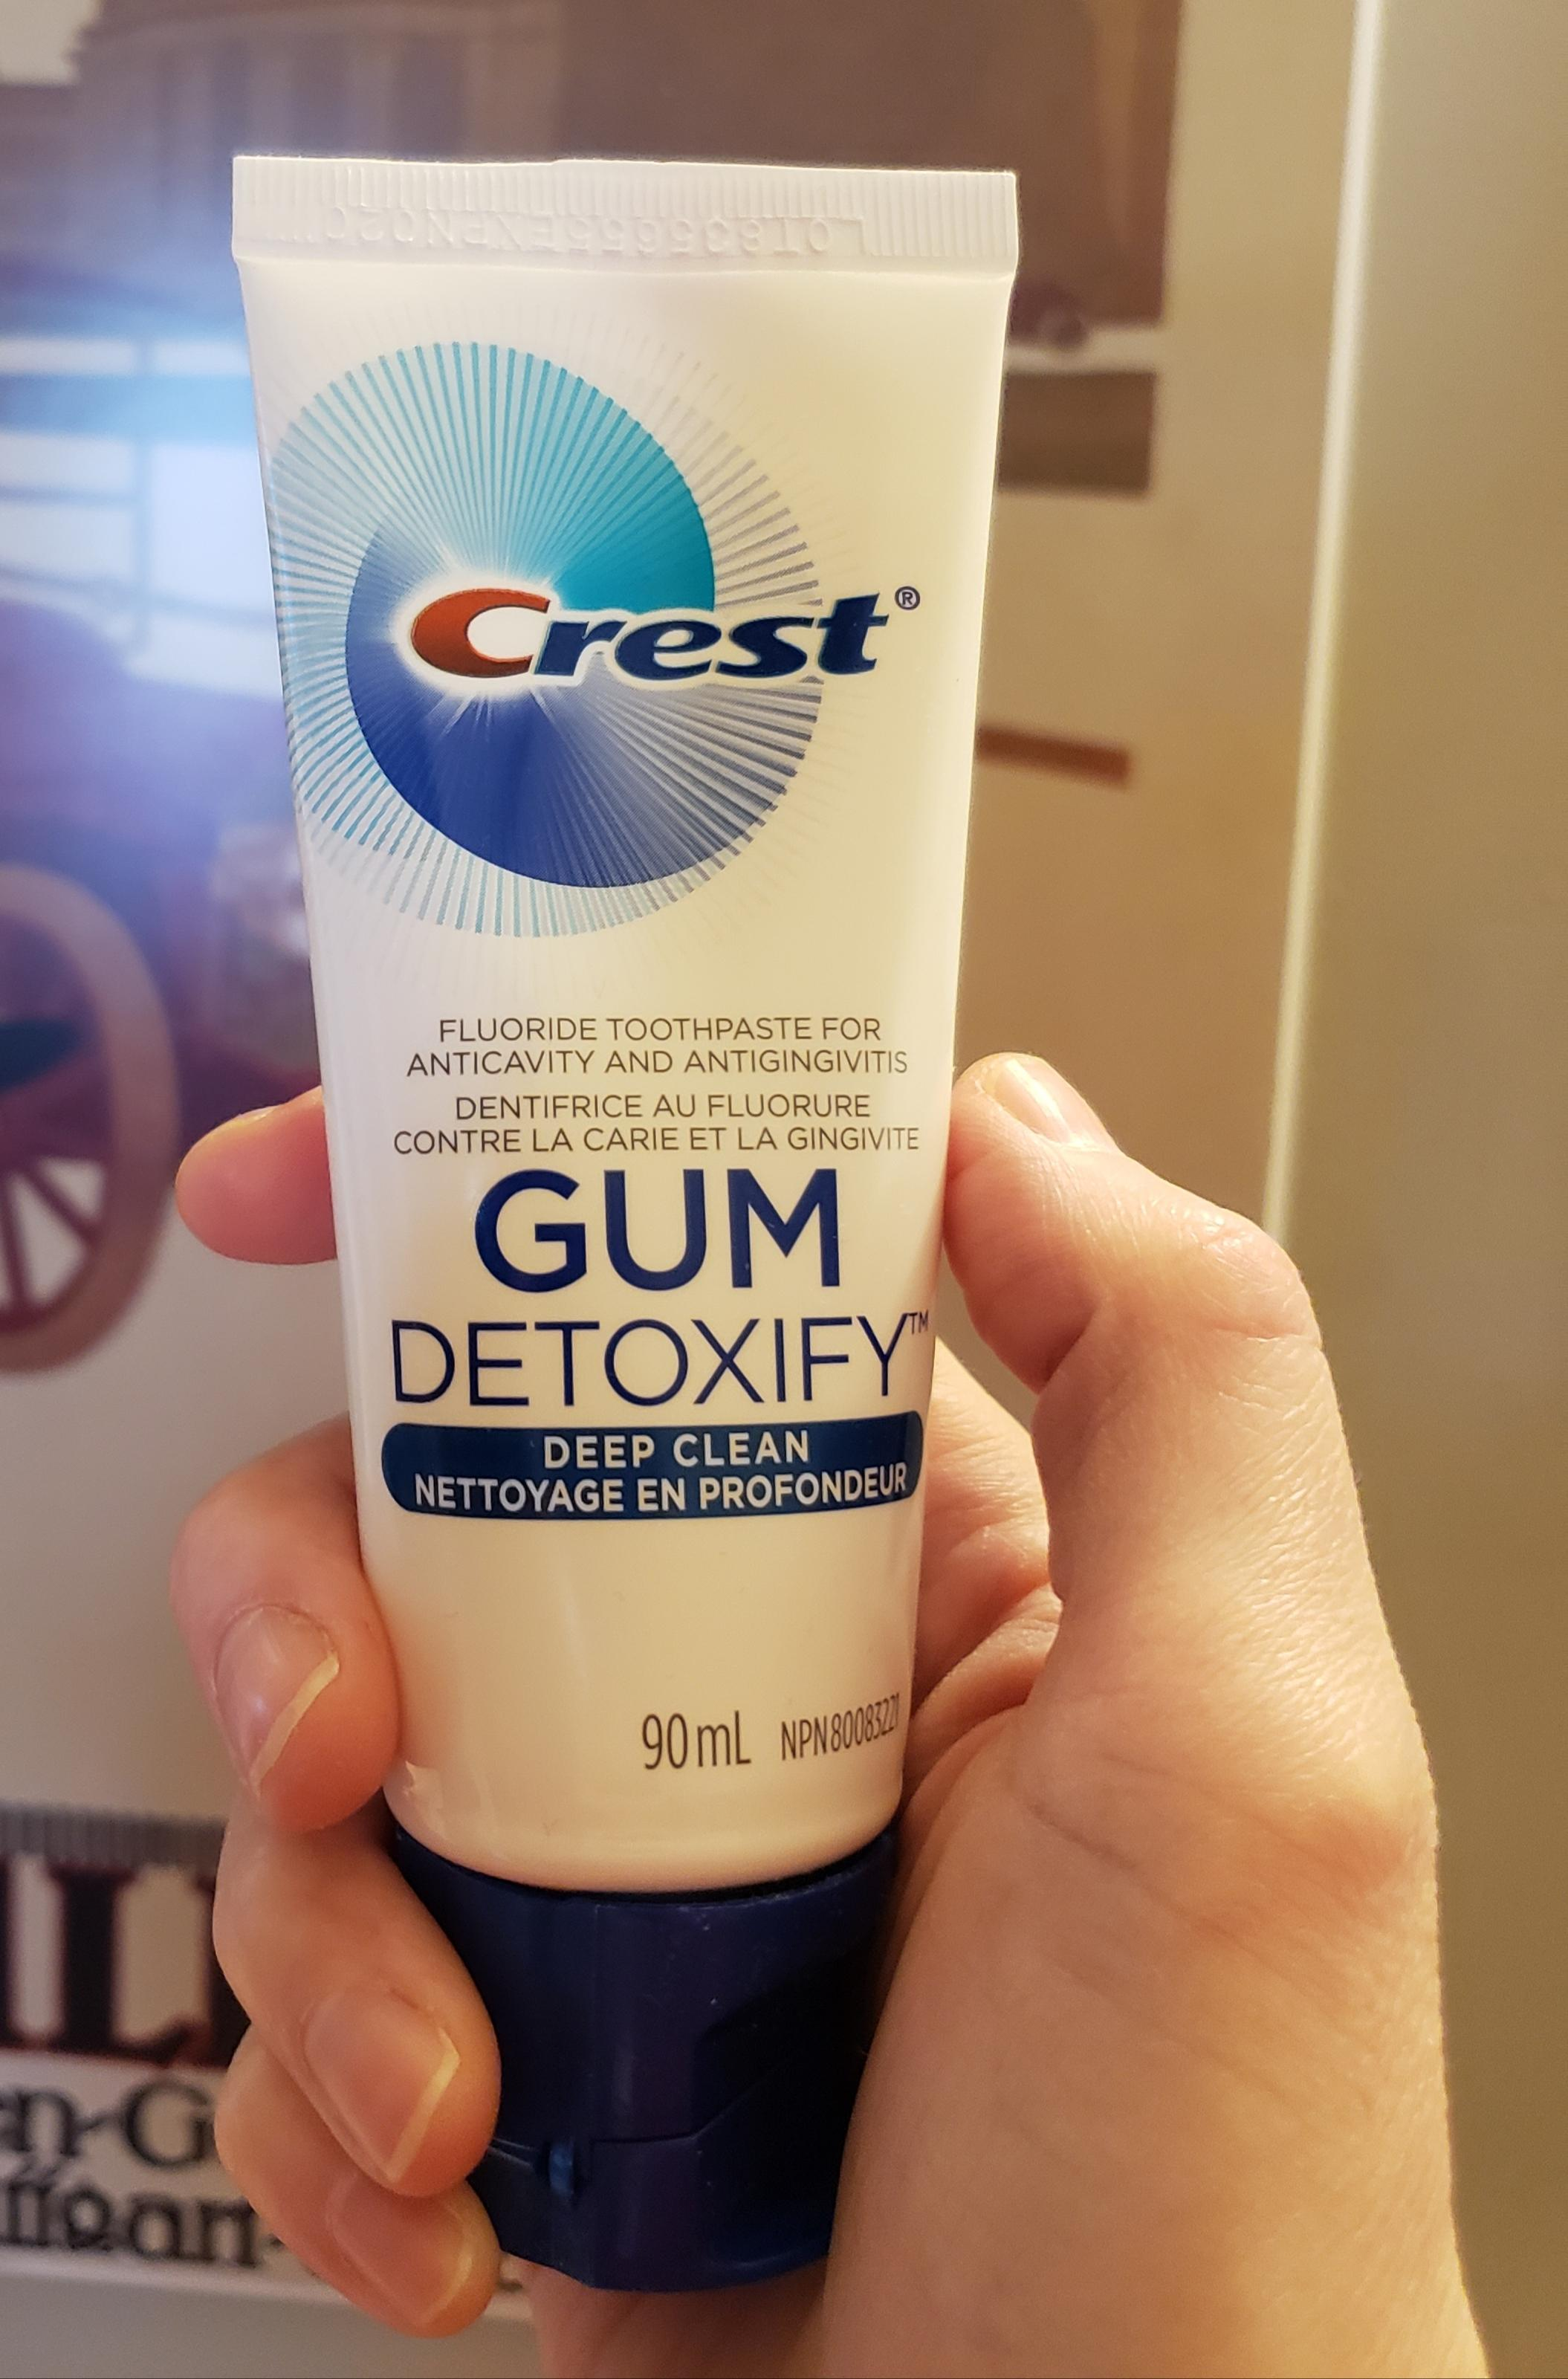toothpaste: (124, 35, 1095, 2293)
